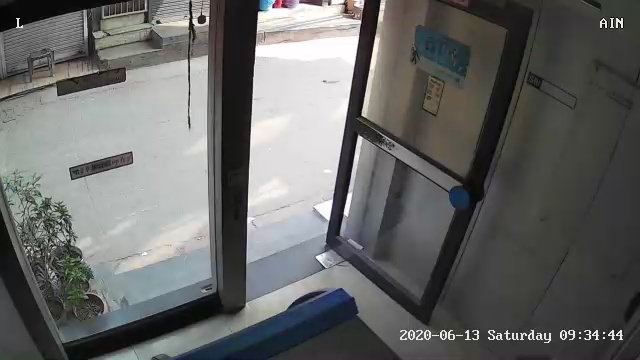open: (190, 9, 537, 330)
